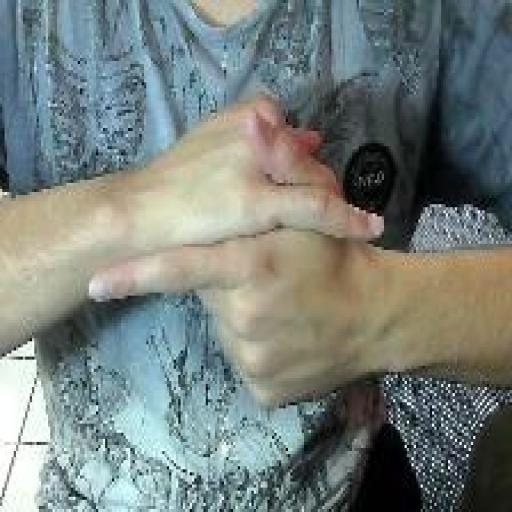U -hare-: (84, 84, 391, 416)
